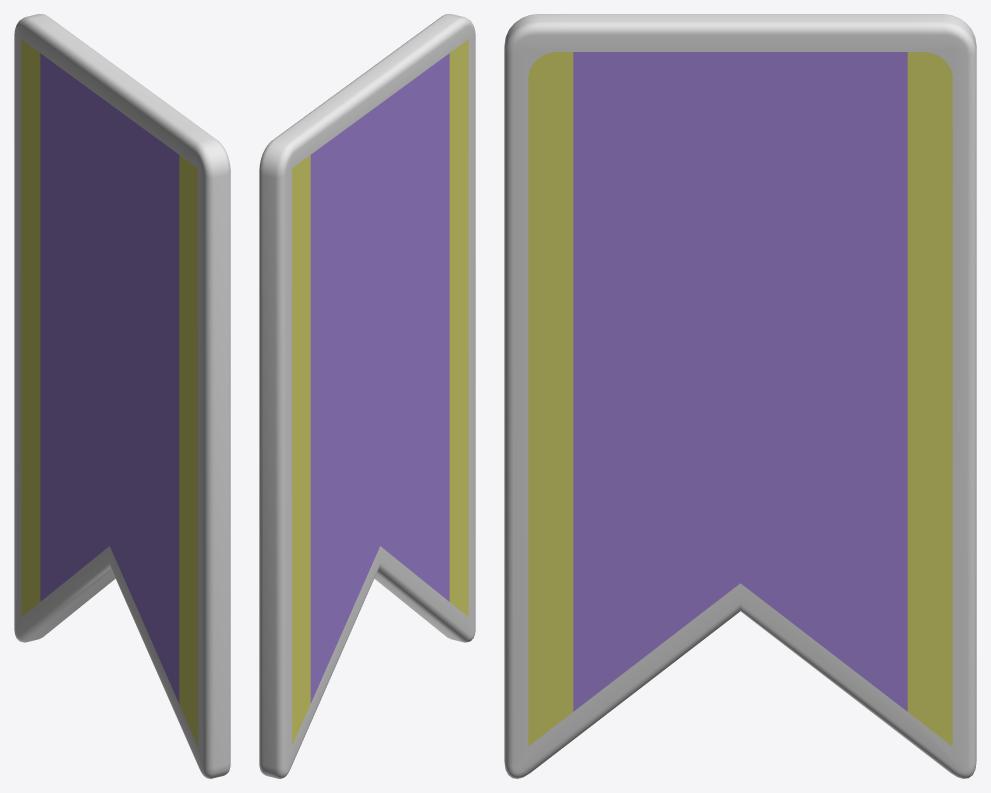
Rendered from bayrak.fbx.
3 views of the same model, side by side, from view 1: azimuth 30°, elevation 25°; view 2: azimuth 150°, elevation 25°; view 3: azimuth 270°, elevation 25° (orthographic). The views are drawn at different scales.
Parts seen in each view (by area): view 1: bayrak; view 2: bayrak; view 3: bayrak.
Boxes of the visible parts, x1,y1,x2,y2 form: bayrak: (14,14,230,778); bayrak: (259,14,475,778); bayrak: (504,14,976,778).
Bounding box in the file's own units: 8.34 × 196 × 111.
